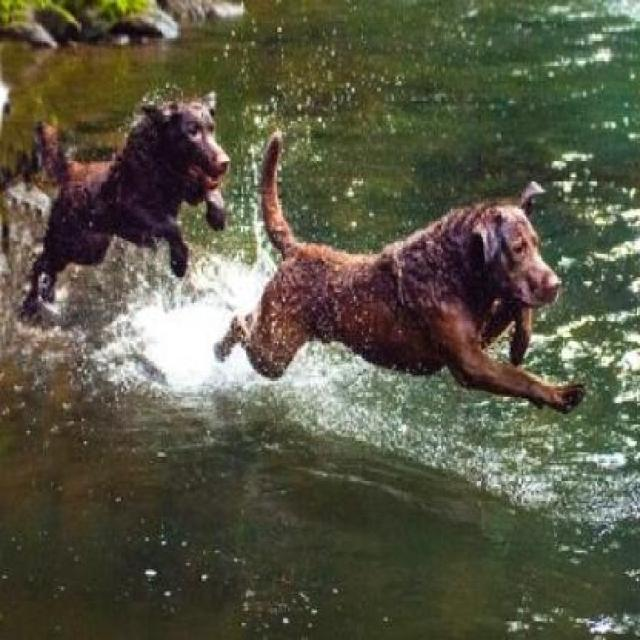animals: (202, 128, 598, 430), (21, 54, 248, 306)
